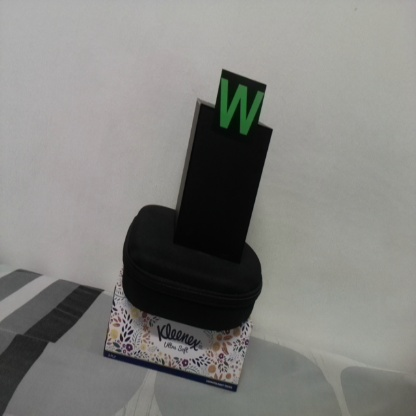id_12: (217, 76, 267, 144)
